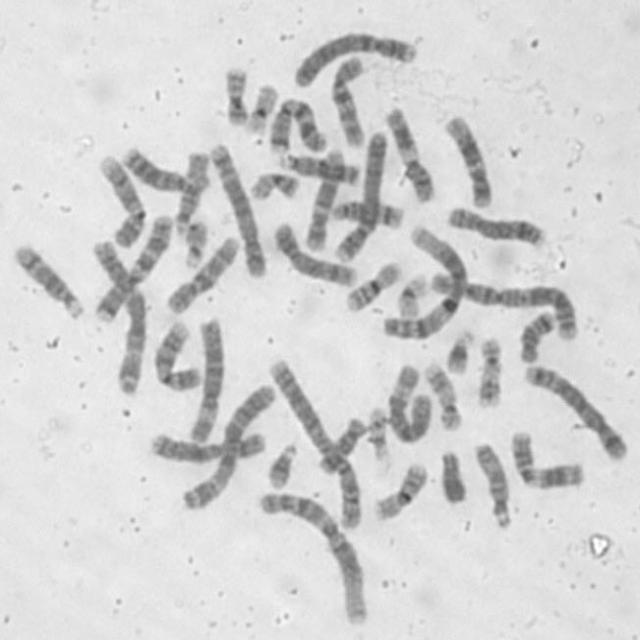A1: (255, 488, 372, 628), (378, 222, 468, 342)
A2: (266, 355, 364, 532), (423, 268, 580, 342)
A3: (178, 379, 278, 512), (88, 236, 148, 396)
B4: (330, 128, 390, 264), (289, 26, 418, 89)
B5: (521, 359, 630, 462), (206, 138, 268, 280)
C10: (162, 232, 242, 316), (327, 51, 369, 149)
C11: (382, 102, 436, 202), (506, 426, 586, 492)
C12: (442, 111, 494, 210), (302, 144, 346, 253)
C6: (184, 313, 226, 445), (384, 360, 434, 445)
C7: (89, 210, 174, 325), (264, 94, 330, 157)
C8: (270, 219, 358, 288), (444, 202, 548, 248)
C9: (94, 150, 148, 248), (150, 318, 202, 392)
D13: (118, 142, 201, 199), (277, 150, 361, 188)
D14: (11, 240, 85, 322), (327, 196, 405, 232)
D15: (472, 440, 513, 530), (171, 148, 211, 237)
E16: (368, 457, 429, 522), (340, 257, 402, 313)
E17: (421, 360, 463, 433), (474, 333, 503, 409)
E18: (314, 412, 366, 476), (514, 306, 557, 364)
F19: (244, 80, 280, 135), (392, 270, 431, 320)
F20: (245, 167, 302, 204), (220, 63, 250, 126)
G21: (264, 438, 300, 489), (441, 327, 476, 375)
G22: (179, 218, 210, 270), (366, 405, 392, 464)
X: (146, 427, 268, 466)
Y: (435, 446, 468, 505)
